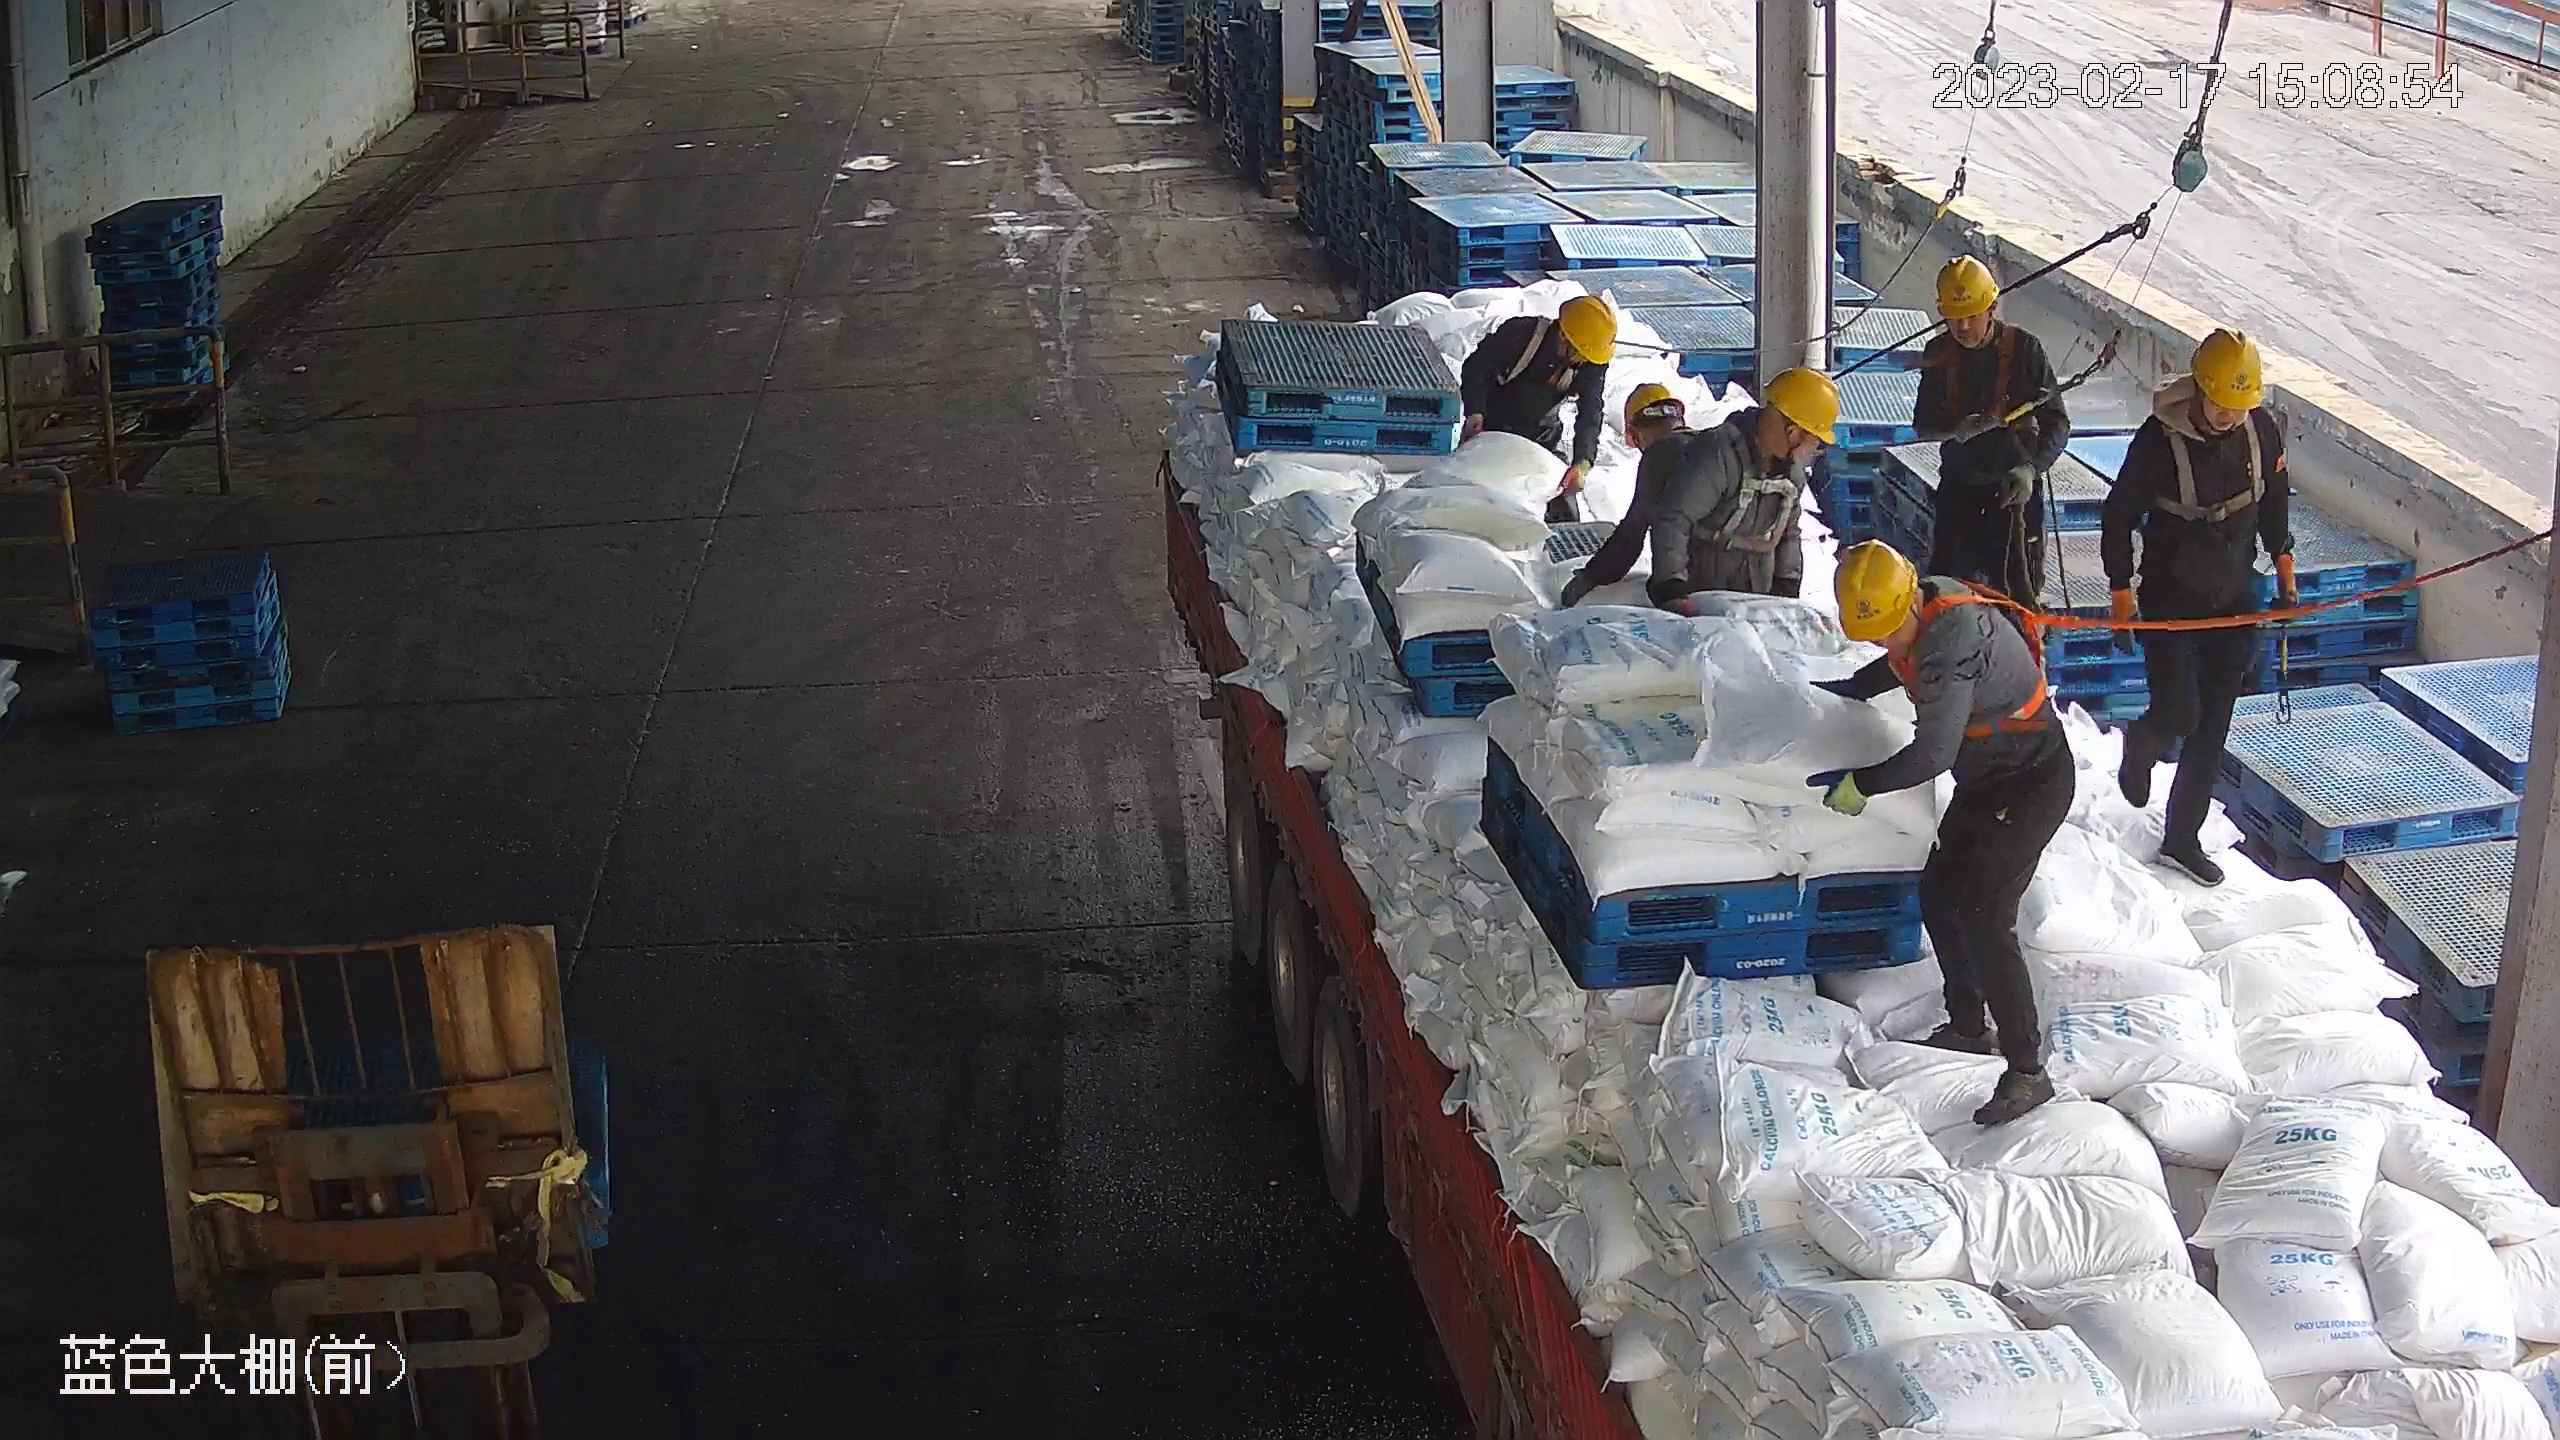belt: (1908, 582, 2080, 739), (1699, 426, 1806, 559), (2151, 417, 2274, 521), (1927, 327, 2028, 432), (1499, 315, 1583, 406)
head: (1836, 541, 2030, 718), (1689, 364, 1843, 535), (2146, 327, 2285, 478), (1920, 254, 2058, 392), (1479, 291, 1618, 412)
helmet: (1836, 538, 1918, 639), (2190, 326, 2261, 410), (1766, 364, 1838, 443), (1934, 252, 2000, 319), (1625, 382, 1685, 451), (1563, 292, 1615, 365)
people: (1806, 534, 2075, 1130), (2103, 326, 2299, 888), (1913, 253, 2071, 619), (1460, 292, 1616, 524)
truck: (1147, 406, 2560, 1440)
